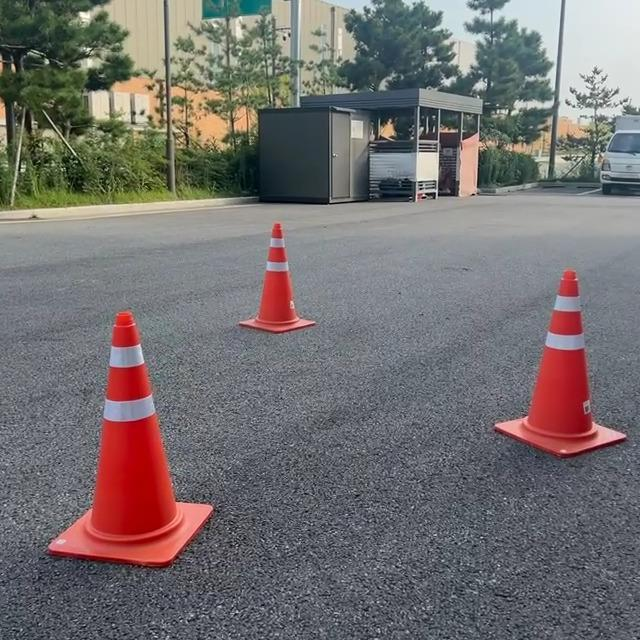fallen_object: (53, 280, 224, 606), (460, 237, 626, 462), (247, 190, 348, 371)
